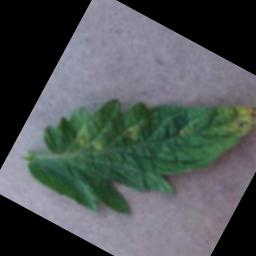Leaf_Mold: (210, 89, 256, 147), (121, 120, 142, 140)
